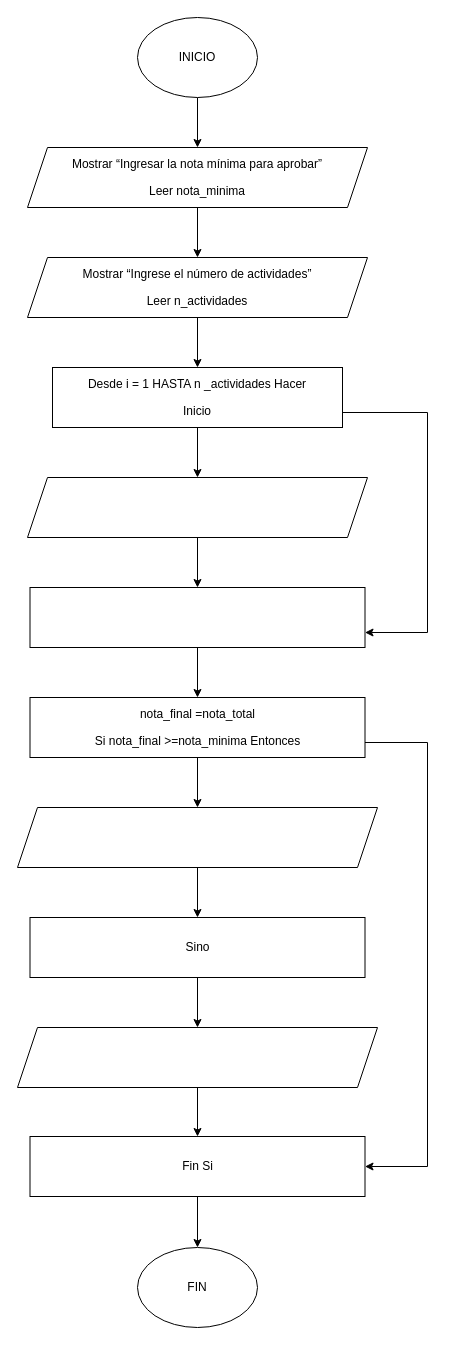
This 453x1345 diagram has some shape labels left out. Each missing label, with the box of its shape:
Mostrar “Ingresar nota de la actividad” Leer nota_actividad: (26, 476, 368, 538)
Mostrar “Usted aprobó el curso con ” + nota_final + “ puntos”: (16, 806, 378, 868)
Mostrar “Usted reprobó el curso con ” + nota_final + “puntos”: (16, 1026, 378, 1088)
nota_total = nota_total + nota_actividad Fin: (29, 586, 365, 648)
